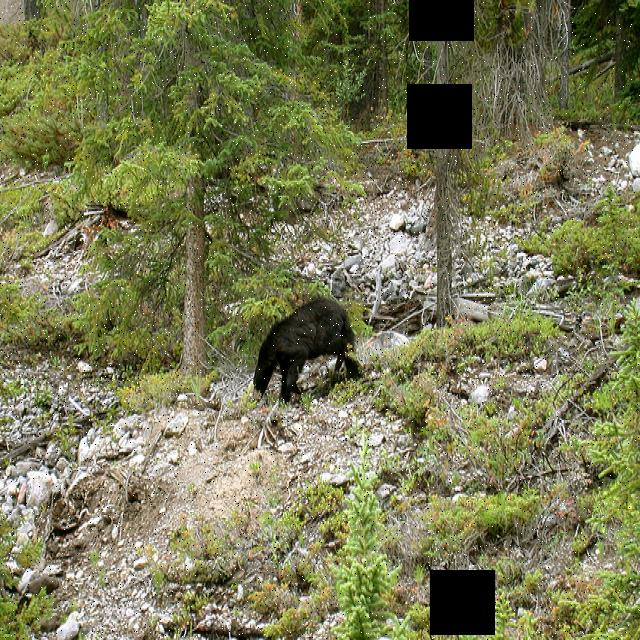Bear: (240, 287, 368, 405)
